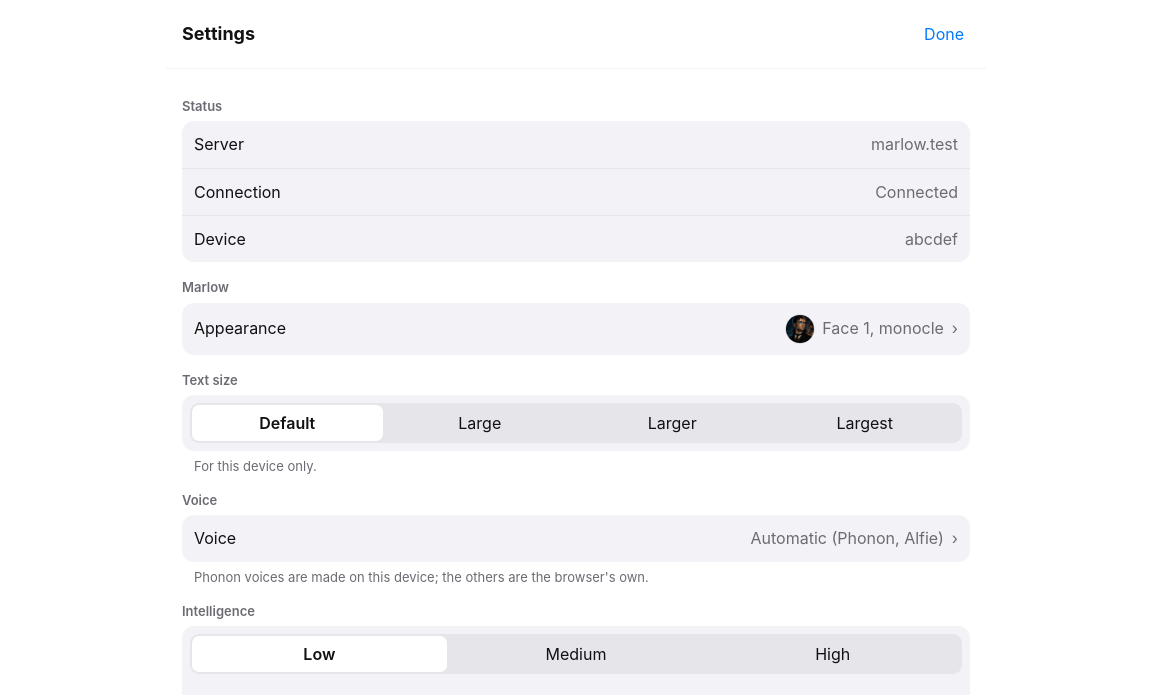
Settings › Voice › Phonon › lists its 25 voices in a group of their own, above the device's
The width and height of the screenshot is (1152, 695).
Click the button "Voice Automatic (Phonon, Alfie)" at (215, 538), box x1=182 y1=515 x2=970 y2=562
(page scrolled)
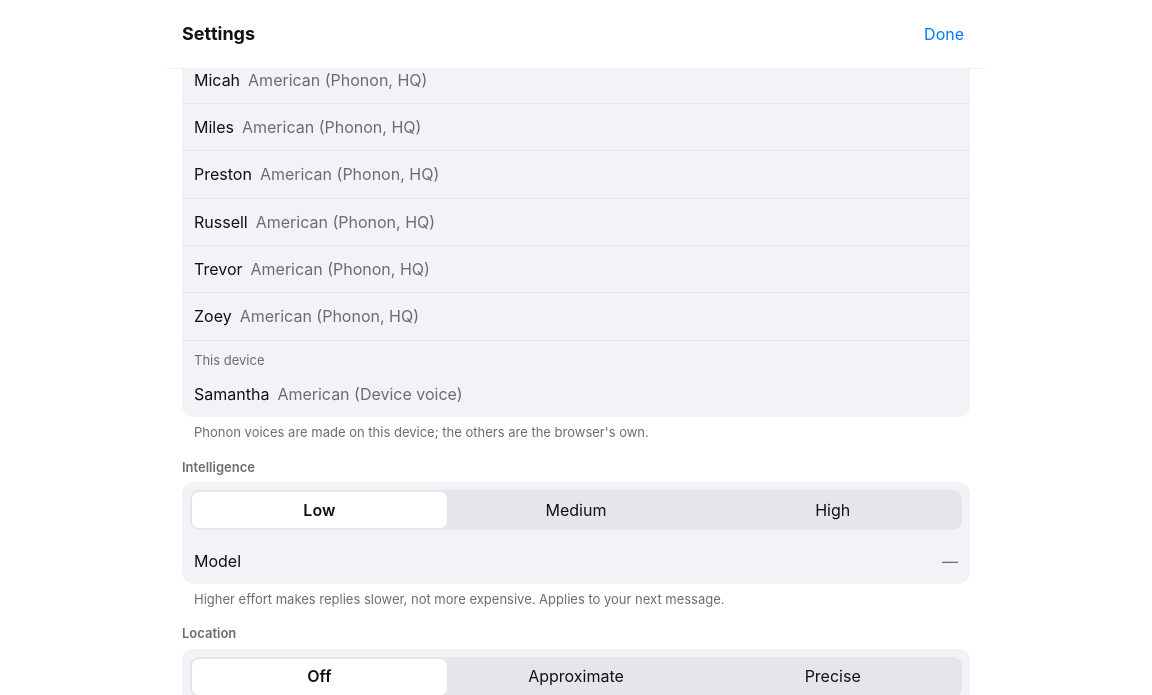
Expected: the radio button labelled "Zoey American (Phonon, HQ)" is shown, x1=182 y1=292 x2=970 y2=340
Expected: the radio button labelled "Samantha American (Device voice)" is shown, x1=182 y1=371 x2=970 y2=417
